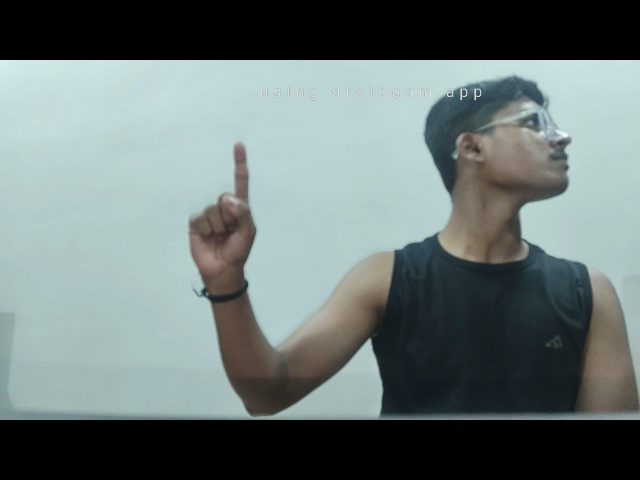no: (174, 131, 269, 298)
